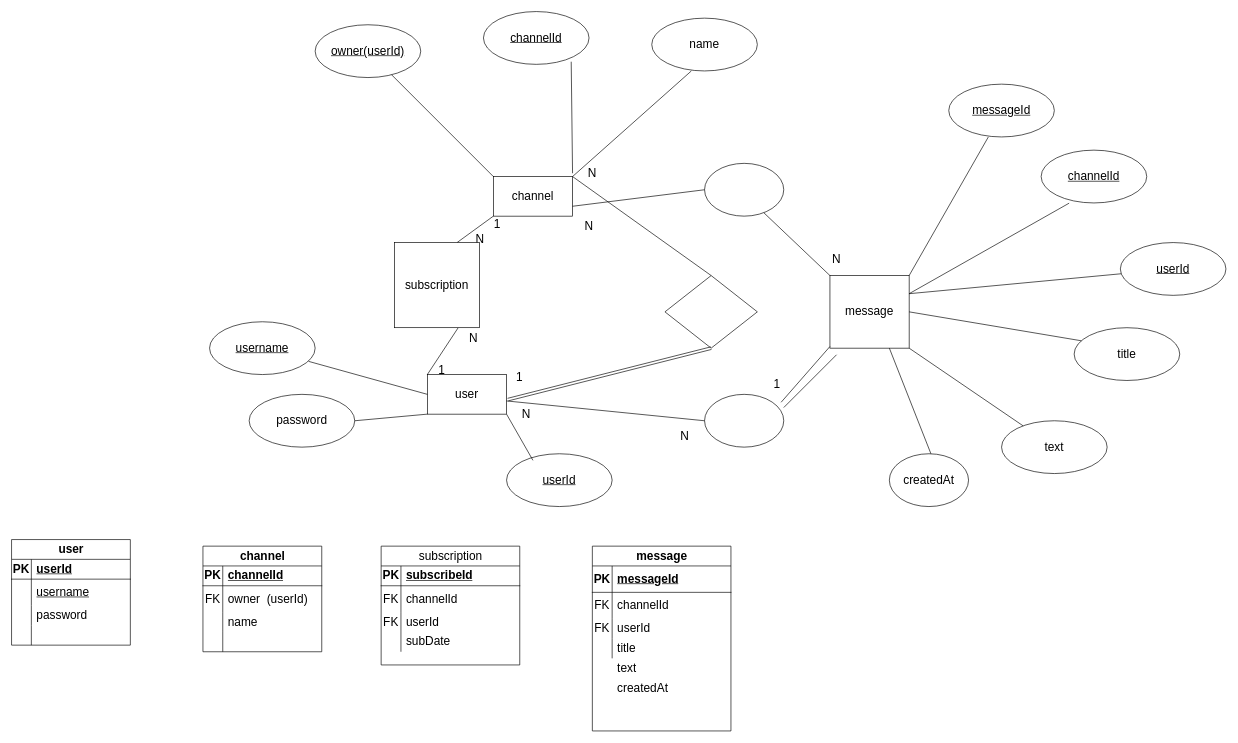
Image size: 1238x743. Some labels were removed from this diagram. Here are the shapes that lost their labels. From the top down, the box of each, then its label:
(704, 163, 784, 216): contains
(664, 275, 757, 348): ownership
(704, 394, 784, 447): authors
